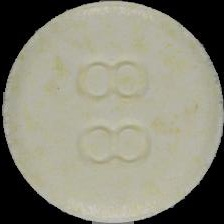50268-616: (0, 0, 224, 224)
